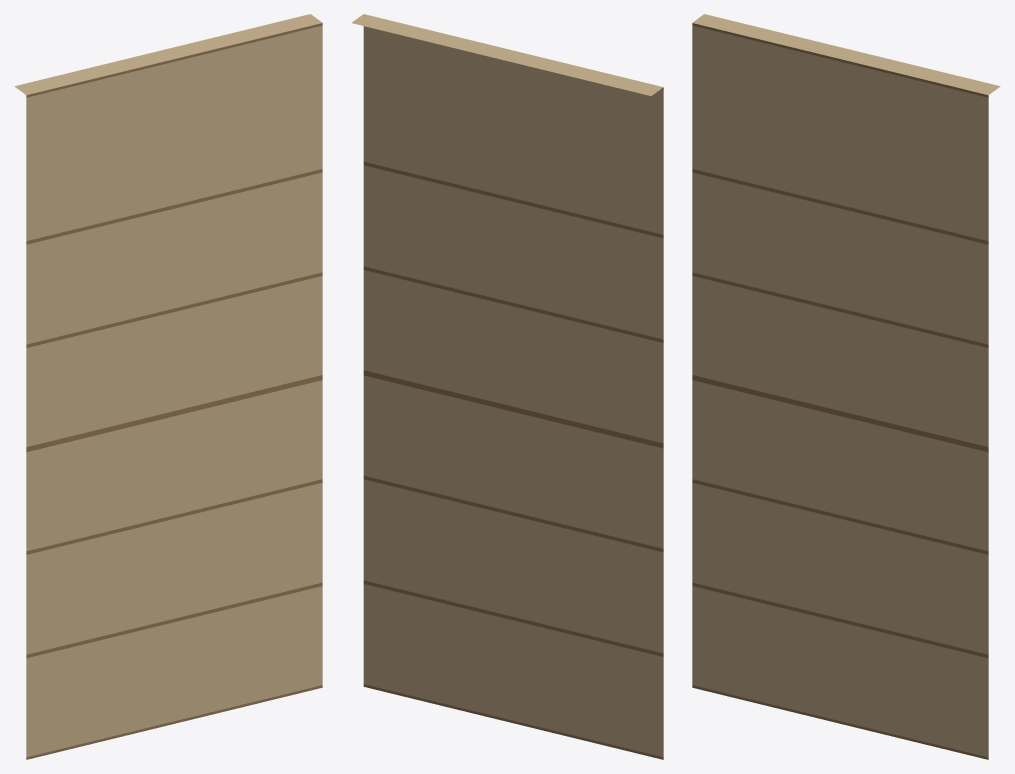
The model's file is M_WallTile350x750-1Biege80.FBX.
3 views of the same model, side by side, from view 1: azimuth 30°, elevation 25°; view 2: azimuth 150°, elevation 25°; view 3: azimuth 330°, elevation 25° (orthographic).
Visible parts, largest first — view 1: M_WallTile350x750-1Biege80; view 2: M_WallTile350x750-1Biege80; view 3: M_WallTile350x750-1Biege80.
Part boxes in pixels (<box>): M_WallTile350x750-1Biege80: <box>14,14,322,759</box>; M_WallTile350x750-1Biege80: <box>352,14,663,759</box>; M_WallTile350x750-1Biege80: <box>692,14,1000,759</box>.
Bounding box in the file's own units: 3.5 × 7.5 × 0.25.
